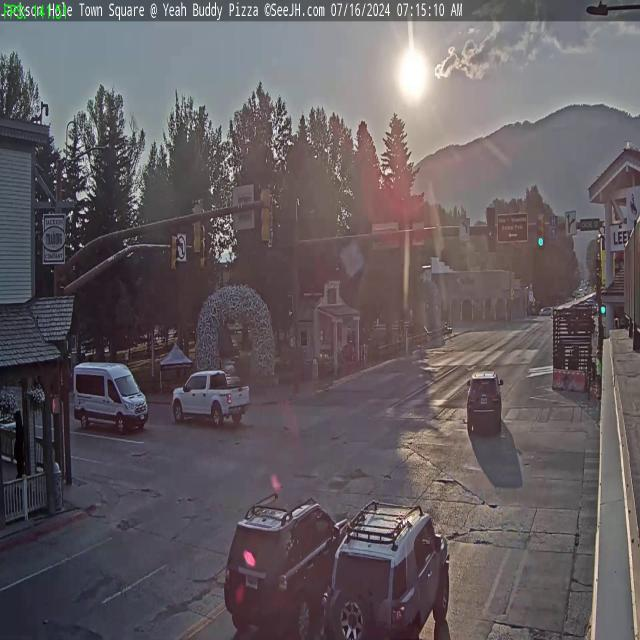pickup: (172, 366, 251, 431)
suv: (330, 495, 456, 639), (224, 494, 342, 640), (466, 368, 502, 432)
traffic light: (190, 199, 204, 254), (261, 184, 273, 244), (171, 230, 180, 280), (487, 208, 496, 254), (536, 214, 546, 248)
van: (68, 356, 151, 439)
